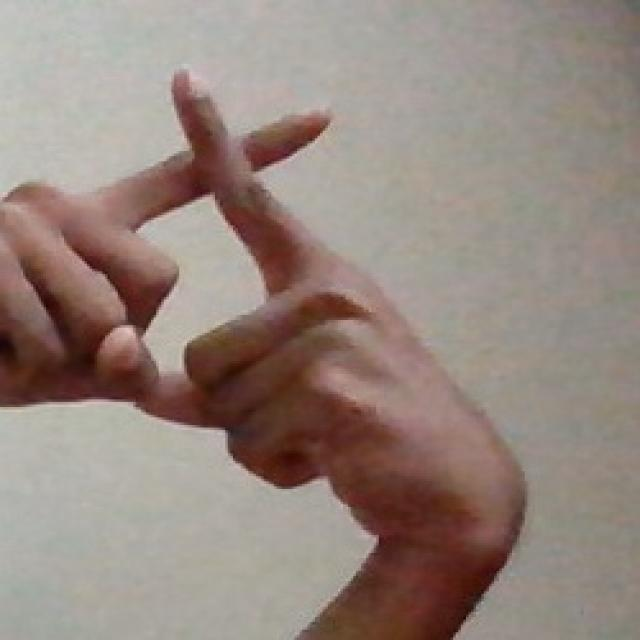Alphabet-X: (0, 68, 524, 562)
